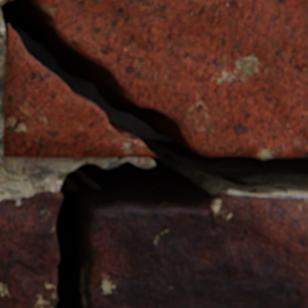broken_brick: (36, 0, 307, 158), (86, 193, 307, 307), (4, 23, 154, 156), (0, 190, 62, 307)
crack: (0, 0, 307, 307)
